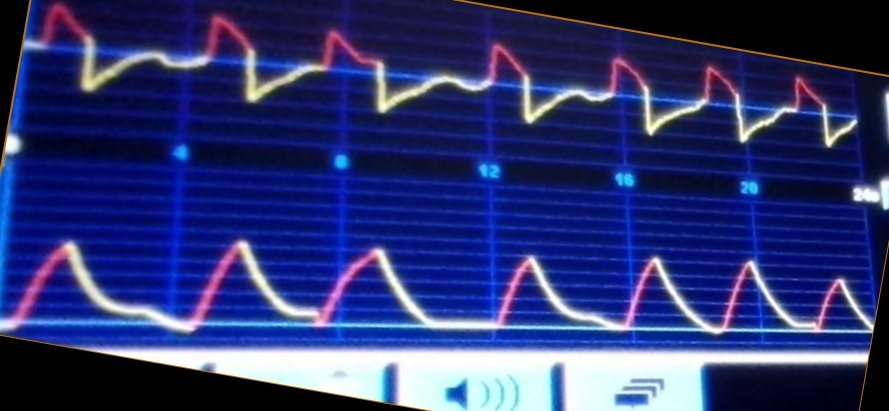Ineffective_effort Flow: (29, 2, 858, 146)
Ineffective_effort Volume: (1, 231, 871, 346)
